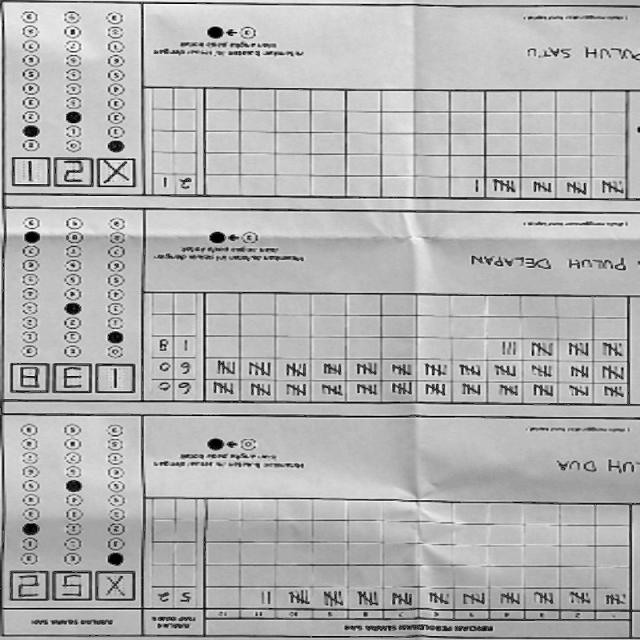Suara: (6, 568, 140, 607), (9, 362, 140, 398), (12, 155, 140, 191)
